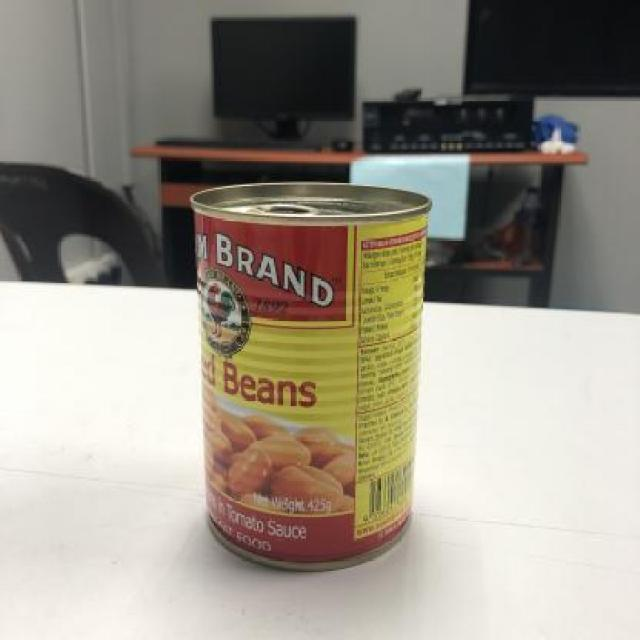metal-can: (192, 182, 431, 572)
